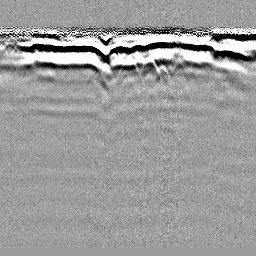cavity: (116, 53, 142, 78)
